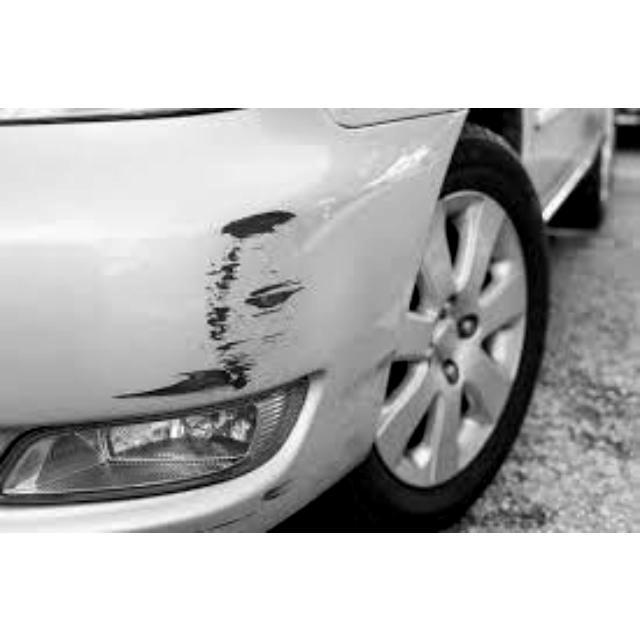front-bumper-dent: (1, 196, 436, 531)
